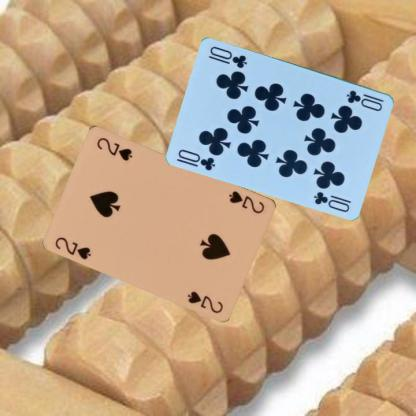10c: (344, 87, 385, 113), (176, 146, 216, 172)
2s: (226, 188, 266, 215), (53, 234, 93, 261)
